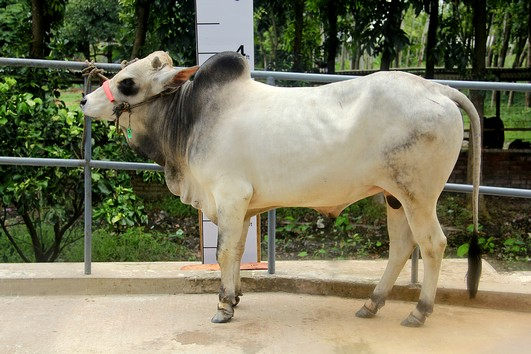cow: (73, 44, 490, 328)
